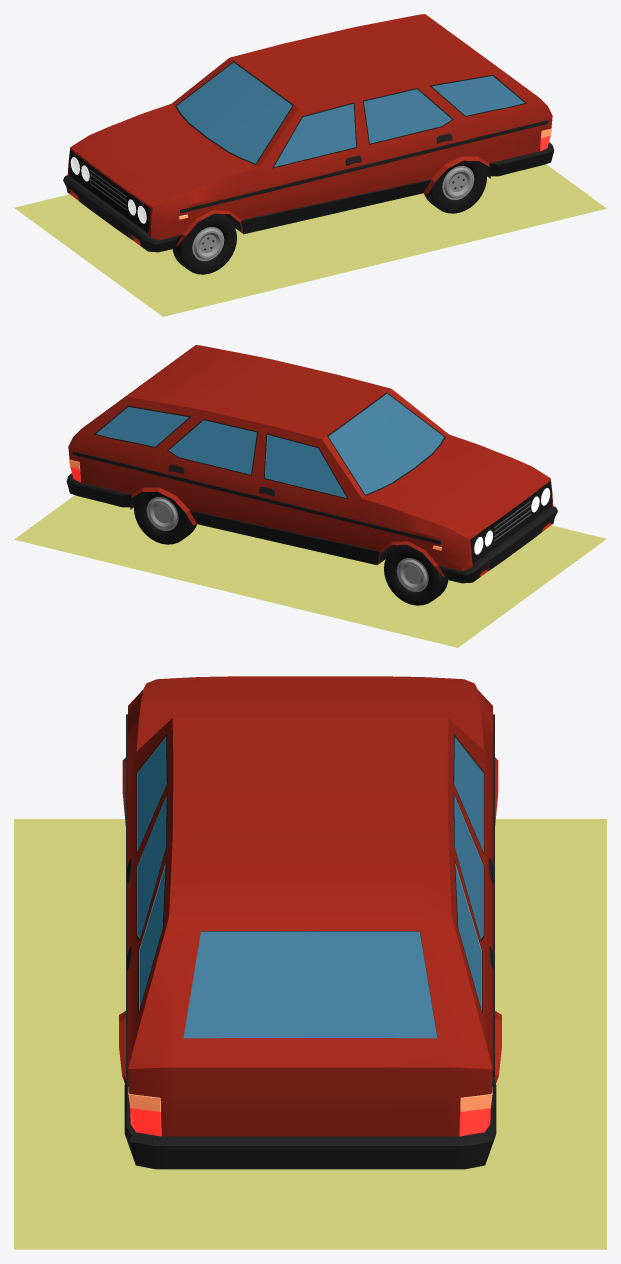
Rendered from low-poly_tofas_kartal.glb.
3 views of the same model, one above another, from view 1: azimuth 30°, elevation 25°; view 2: azimuth 150°, elevation 25°; view 3: azimuth 270°, elevation 25° (orthographic). The views are drawn at different scales.
Visible parts, largest first — view 1: Kaporta_10, Plane_9; view 2: Kaporta_10, Plane_9; view 3: Kaporta_10, Plane_9.
Part boxes in pixels (x1,y1,x2,y2): Kaporta_10: (63,14,554,274); Plane_9: (14,164,606,316); Kaporta_10: (66,345,557,605); Plane_9: (14,495,606,647); Kaporta_10: (119,676,501,1169); Plane_9: (14,819,606,1249).
Bounding box in the file's own units: 4.41 × 1.31 × 2.57.
